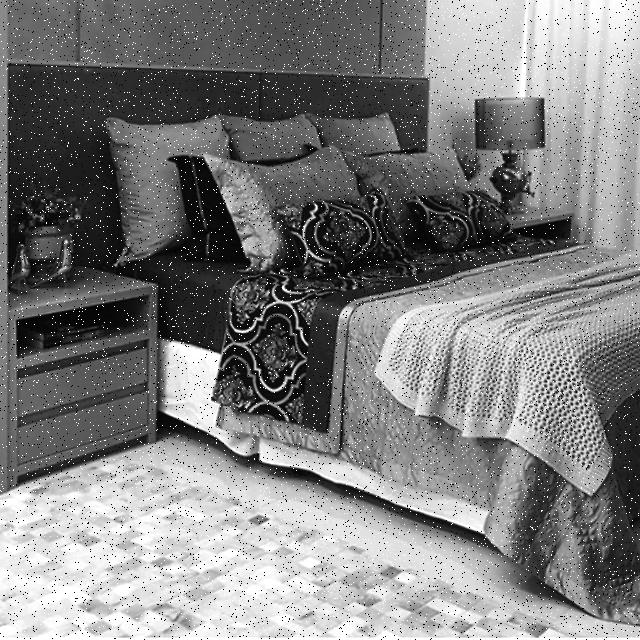bed: (112, 54, 640, 548)
